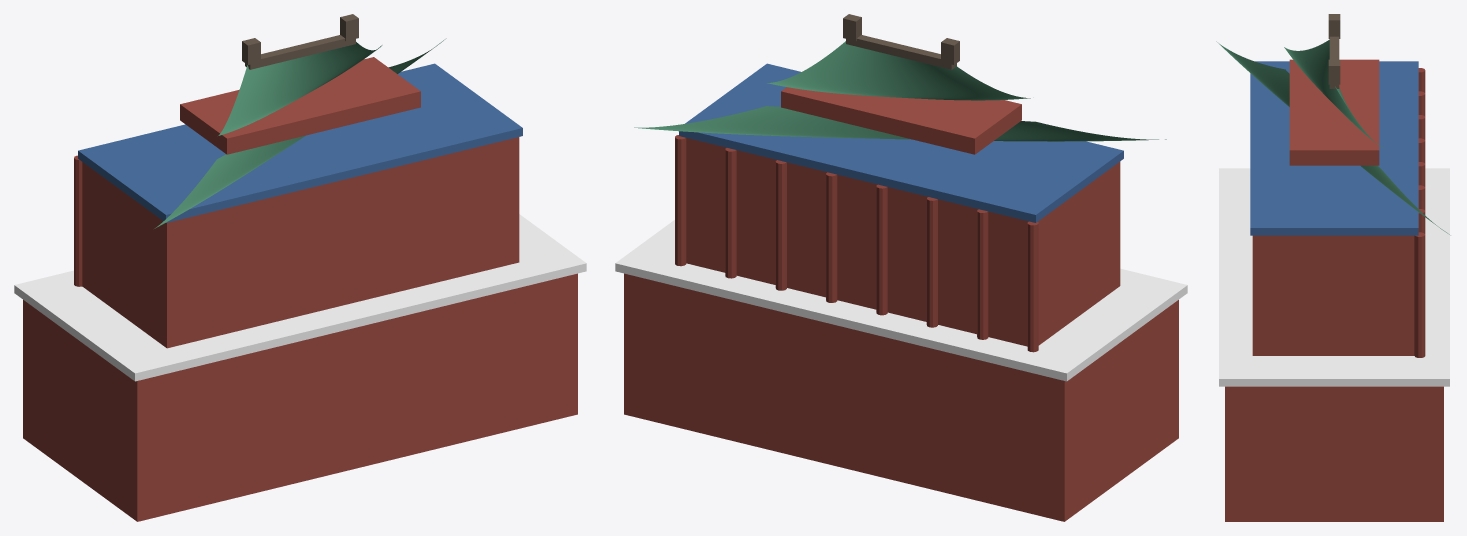
Rendered from yongdingmen.glb.
3 views of the same model, side by side, from view 1: azimuth 30°, elevation 25°; view 2: azimuth 150°, elevation 25°; view 3: azimuth 270°, elevation 25° (orthographic). The views are drawn at different scales.
Parts seen in each view (by area): view 1: yongdingmen; view 2: yongdingmen; view 3: yongdingmen.
Boxes of the visible parts, bbox=[...] form: yongdingmen: bbox=[14, 14, 586, 521]; yongdingmen: bbox=[615, 14, 1187, 521]; yongdingmen: bbox=[1216, 14, 1450, 521].
Bounding box in the file's own units: 41 × 34.4 × 19.44.
